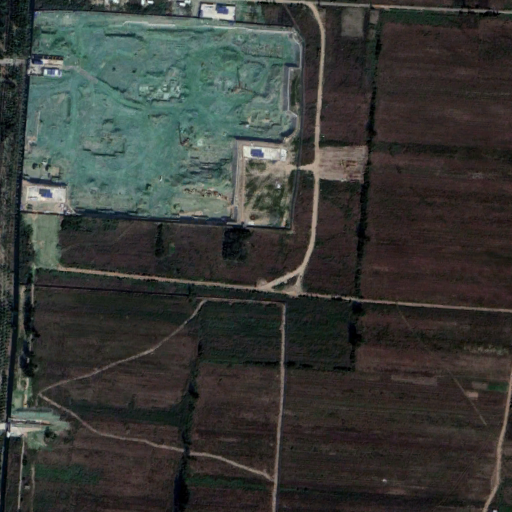cw: (21, 11, 303, 223)
